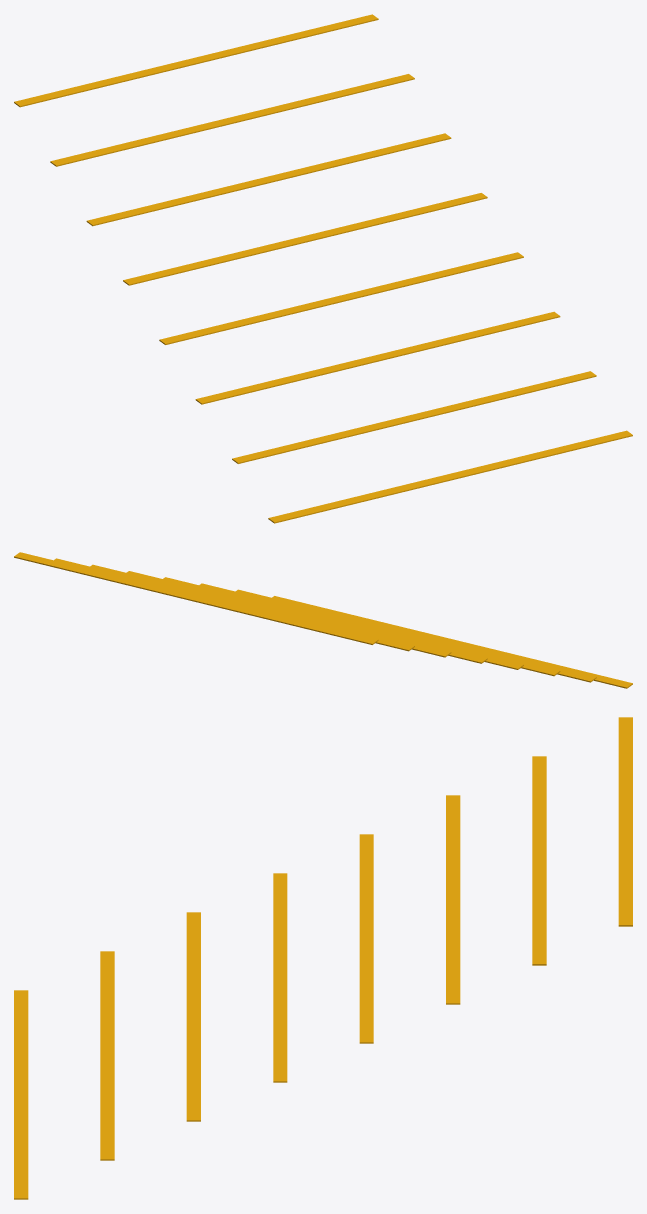
The model's file is gteki_ik_stair_n8_r166_t333_w1912_nosing.glb.
3 views of the same model, one above another, from view 1: azimuth 30°, elevation 25°; view 2: azimuth 150°, elevation 25°; view 3: azimuth 270°, elevation 25° (orthographic). The views are drawn at different scales.
Visible parts, largest first — view 1: VIS_body; view 2: VIS_body; view 3: VIS_body.
Part boxes in pixels (x1,y1,x2,y2): VIS_body: (14,14,632,523); VIS_body: (14,552,632,688); VIS_body: (14,717,632,1199).
Size of the model in its own units: 1.9 by 1.17 by 2.39.
1 material, 1 textured.
